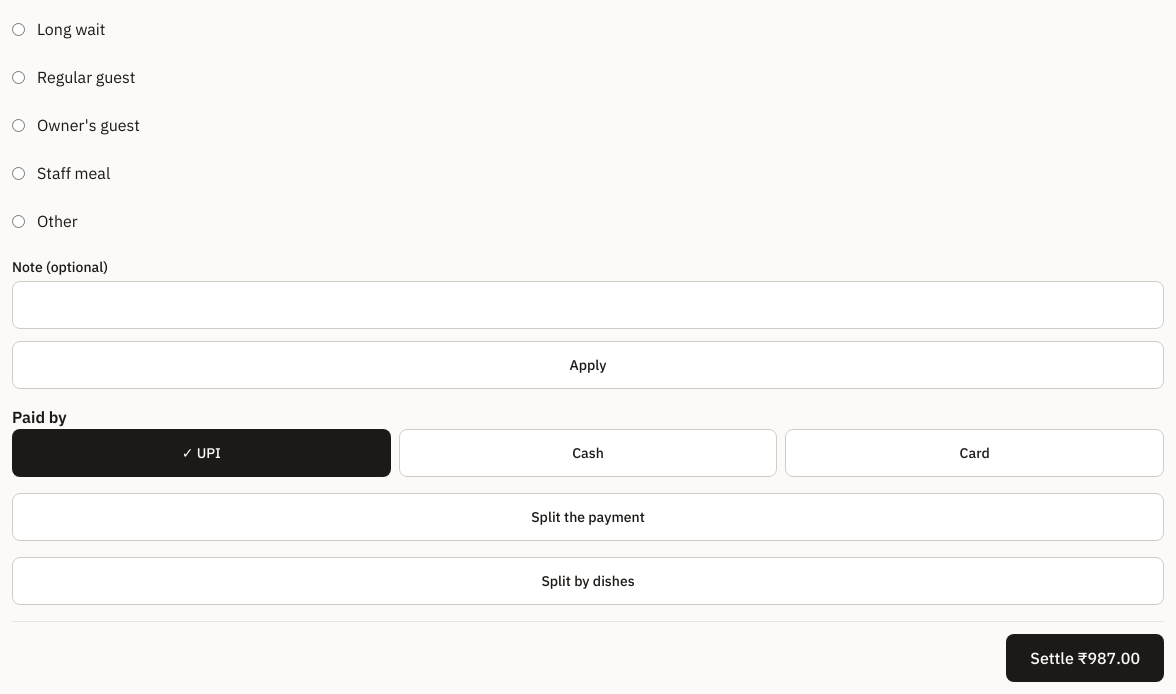
Test: BillScreen › moves the ticked dishes to a separate bill before anything is settled
(page scrolled)
Click the button "Split by dishes" at (588, 581), box [12,557,1164,605]
(page scrolled)
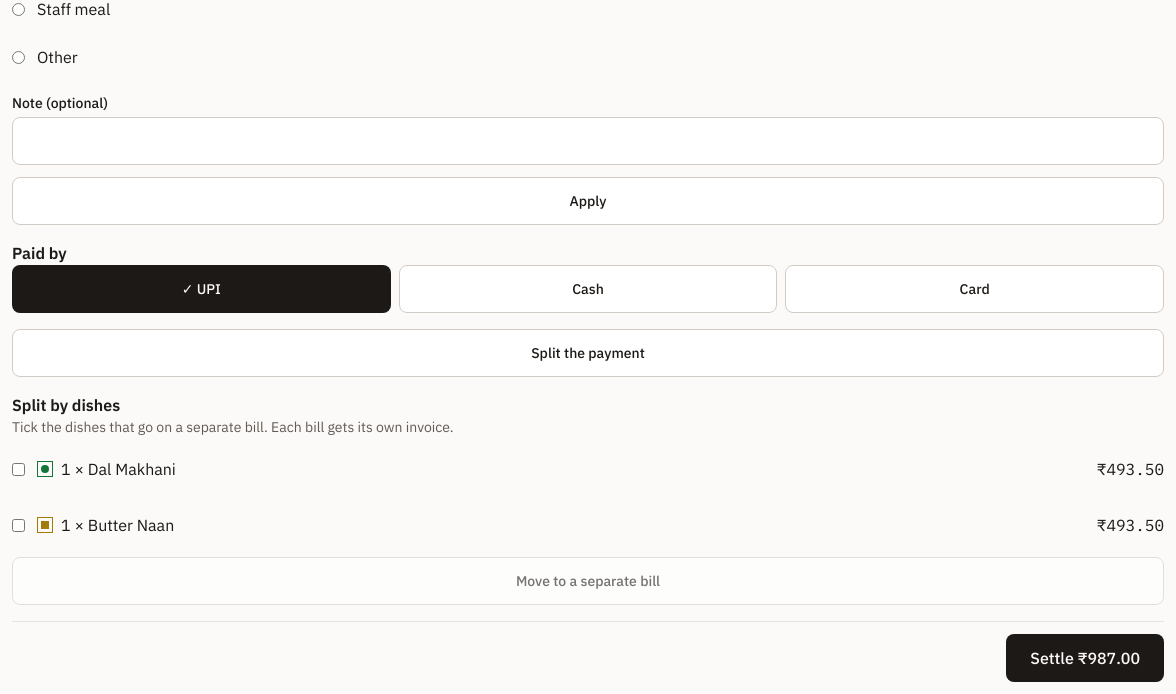
Click the checkbox labelled "1 × Butter Naan ₹493.50" at (18, 525), box [12,518,25,532]
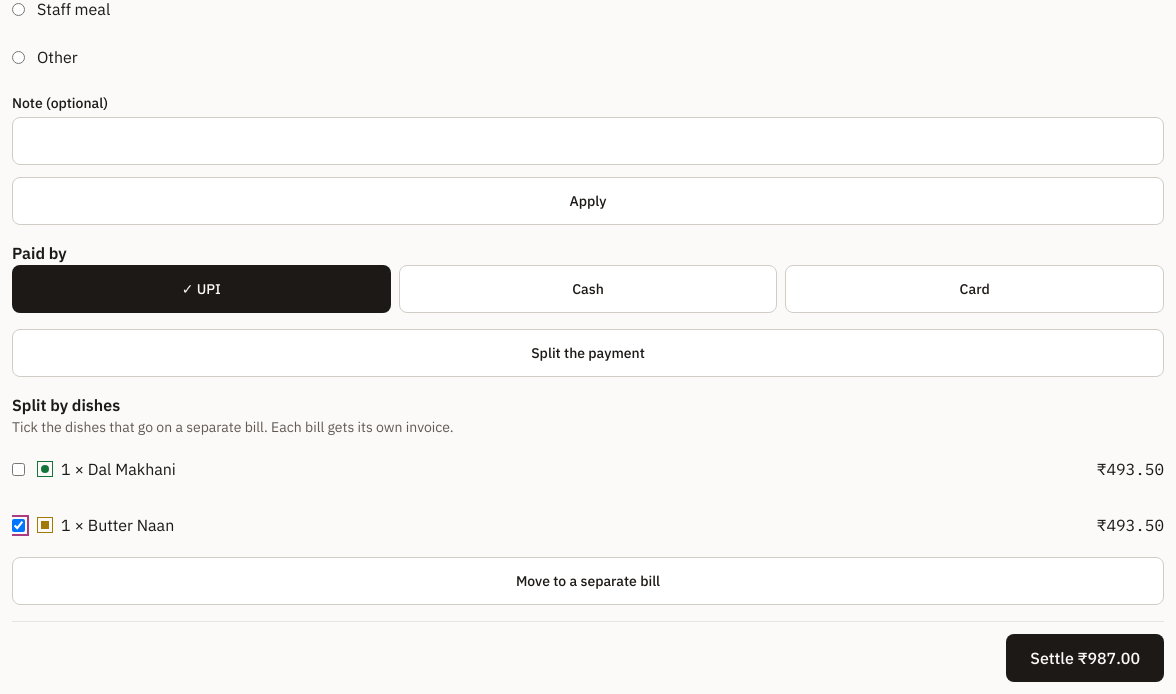
Click the button "Move to a separate bill" at (588, 581), box [12,557,1164,605]
(page scrolled)
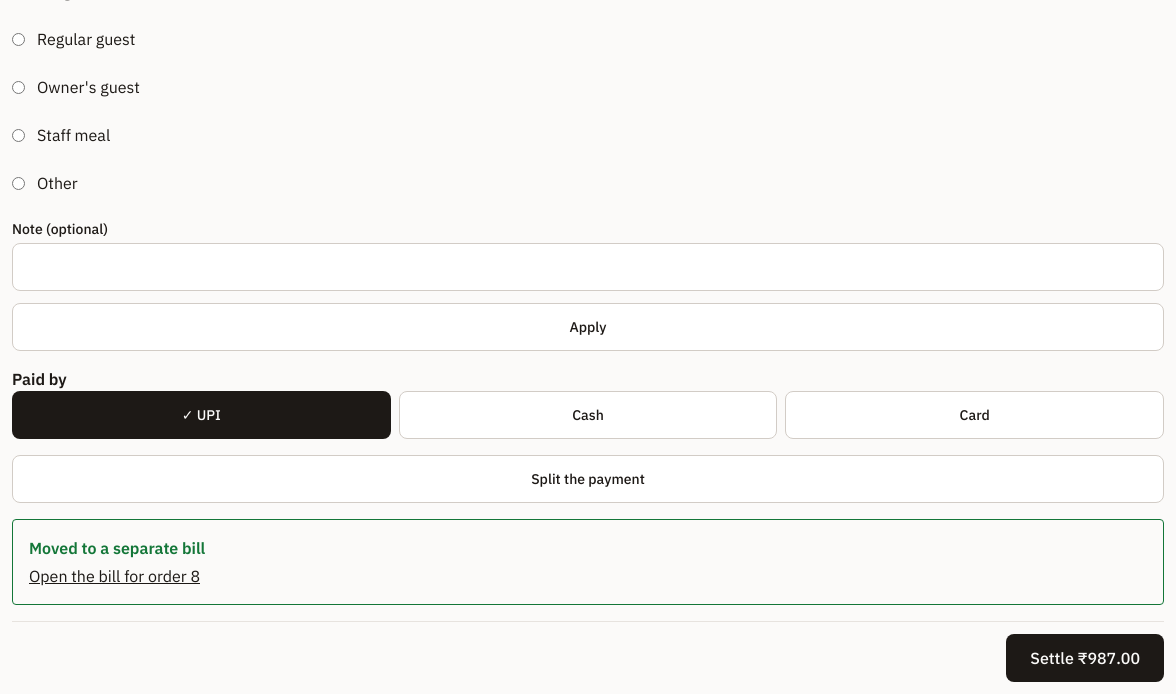
Now the text "Moved to a separate bill" is shown, box [29,538,205,558]
